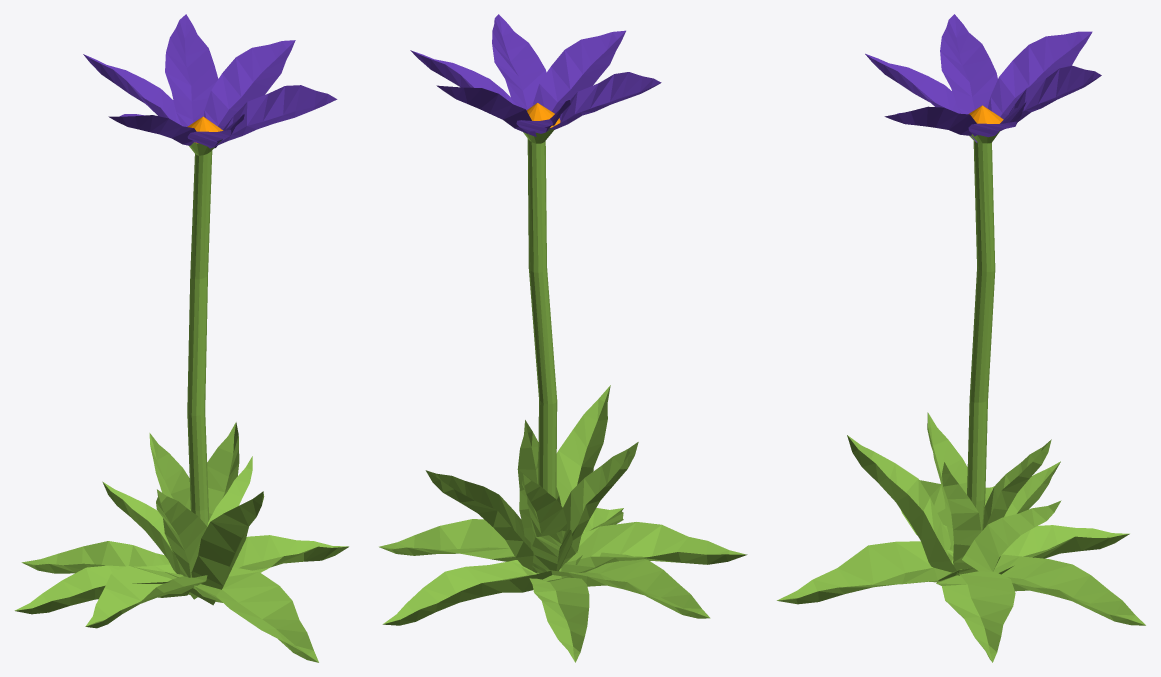
The picture shows the model from 3 angles, left to right: view 1: azimuth 30°, elevation 25°; view 2: azimuth 150°, elevation 25°; view 3: azimuth 270°, elevation 25°; orthographic projection. The views are drawn at different scales.
Parts seen in each view (by area): view 1: mesh481568313, mesh783281343, mesh1552697363, mesh2059789359, mesh1758196251, mesh266082552, mesh1928658340, mesh595482761, mesh158731365, mesh1439209696, mesh1238384977, mesh1366698634 (+6 smaller); view 2: mesh481568313, mesh266082552, mesh303338039, mesh158731365, mesh401147796, mesh1439209696, mesh1990659664, mesh595482761, mesh1758196251, mesh1928658340, mesh1238384977, mesh1450367602 (+7 smaller); view 3: mesh481568313, mesh783281343, mesh303338039, mesh1758196251, mesh1439209696, mesh1366698634, mesh1450367602, mesh595482761, mesh1990659664, mesh1945249999, mesh2059789359, mesh1318692651 (+6 smaller).
Boxes of the visible parts, x1,y1,x2,y2 form: mesh481568313: (187, 116, 223, 526); mesh783281343: (165, 567, 318, 662); mesh1552697363: (203, 40, 295, 129); mesh2059789359: (165, 14, 218, 126); mesh1758196251: (188, 491, 264, 605); mesh266082552: (85, 565, 207, 628); mesh1928658340: (215, 85, 337, 146); mesh595482761: (21, 541, 189, 594); mesh158731365: (14, 564, 189, 614); mesh1439209696: (233, 535, 348, 572); mesh1238384977: (156, 489, 207, 599); mesh1366698634: (83, 54, 184, 126); mesh481568313: (523, 103, 560, 499); mesh266082552: (537, 522, 747, 581); mesh303338039: (382, 560, 554, 625); mesh158731365: (545, 552, 710, 618); mesh401147796: (532, 30, 625, 113); mesh1439209696: (379, 519, 516, 561); mesh1990659664: (425, 470, 539, 573); mesh595482761: (521, 567, 589, 662); mesh1758196251: (556, 385, 610, 552); mesh1928658340: (492, 14, 546, 110); mesh1238384977: (559, 442, 638, 569); mesh1450367602: (546, 72, 661, 131); mesh481568313: (967, 105, 1003, 531); mesh783281343: (777, 541, 973, 604); mesh303338039: (994, 554, 1145, 625); mesh1758196251: (847, 435, 959, 575); mesh1439209696: (936, 571, 1015, 662); mesh1366698634: (987, 31, 1092, 119); mesh1450367602: (940, 14, 997, 114); mesh595482761: (998, 525, 1129, 574); mesh1990659664: (962, 500, 1061, 571); mesh1945249999: (942, 462, 981, 574); mesh2059789359: (1000, 65, 1101, 130); mesh1318692651: (983, 439, 1051, 529).
Bounding box in the file's own units: 1.7 × 2.59 × 1.6.
